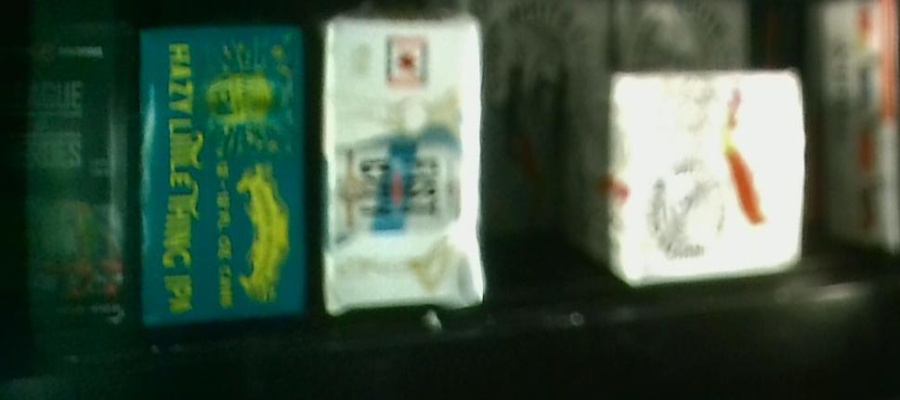bottle: (565, 66, 804, 286), (139, 25, 306, 324), (319, 13, 484, 309), (1, 21, 137, 345)
